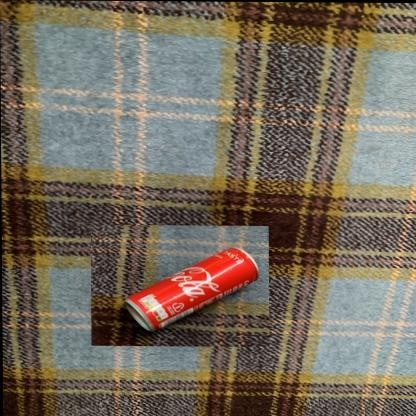trash: (126, 248, 258, 330)
